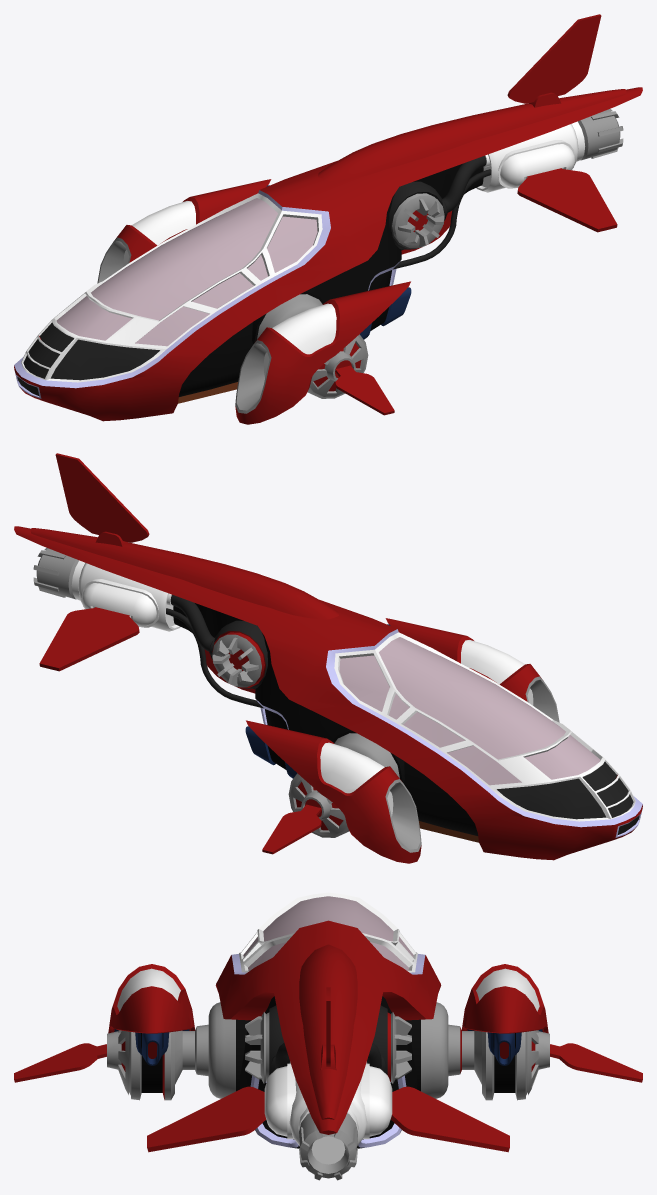
Rendered from NewShip.obj.
3 renders of one model, top to bottom at view 1: azimuth 30°, elevation 25°; view 2: azimuth 150°, elevation 25°; view 3: azimuth 270°, elevation 25°, orthographic. The views are drawn at different scales.
Visible parts, largest first — view 1: UpperChassis, WindShield, WingCovers, Tummy, WindowFrame, FrontPlates, Tank, WingPads, Lists, WingThings, WingOpenings, Flenses (+5 smaller); view 2: UpperChassis, WindShield, WingCovers, Tummy, WindowFrame, FrontPlates, Tank, WingPads, Lists, WingThings, WingOpenings, Flenses (+5 smaller); view 3: UpperChassis, WingThings, WingCovers, Tank, WindShield, Detail, Flenses, WindowFrame, Exhaust, WingPads, Tummy, WingStuff (+5 smaller).
Part boxes in pixels (x1=…): UpperChassis: x1=14, y1=14, x2=642, y2=421; WindShield: x1=56, y1=198, x2=317, y2=346; WingCovers: x1=115, y1=179, x2=410, y2=424; Tummy: x1=178, y1=164, x2=483, y2=396; WindowFrame: x1=21, y1=193, x2=322, y2=382; FrontPlates: x1=17, y1=322, x2=159, y2=395; Tank: x1=476, y1=121, x2=585, y2=192; WingPads: x1=132, y1=201, x2=336, y2=354; Lists: x1=14, y1=190, x2=400, y2=398; WingThings: x1=257, y1=294, x2=368, y2=398; WingOpenings: x1=97, y1=237, x2=271, y2=413; Flenses: x1=392, y1=193, x2=444, y2=248; UpperChassis: x1=14, y1=453, x2=642, y2=860; WindShield: x1=339, y1=637, x2=600, y2=785; WingCovers: x1=246, y1=618, x2=541, y2=863; Tummy: x1=173, y1=603, x2=478, y2=835; WindowFrame: x1=334, y1=632, x2=635, y2=821; FrontPlates: x1=497, y1=761, x2=639, y2=834; Tank: x1=71, y1=560, x2=180, y2=631; WingPads: x1=320, y1=640, x2=524, y2=793; Lists: x1=256, y1=629, x2=642, y2=837; WingThings: x1=288, y1=733, x2=399, y2=837; WingOpenings: x1=385, y1=676, x2=559, y2=852; Flenses: x1=212, y1=634, x2=261, y2=687; UpperChassis: x1=14, y1=920, x2=642, y2=1152; WingThings: x1=107, y1=1002, x2=549, y2=1100; WingCovers: x1=108, y1=964, x2=548, y2=1033; Tank: x1=264, y1=1061, x2=392, y2=1146; WindShield: x1=243, y1=896, x2=413, y2=970; Detail: x1=121, y1=984, x2=535, y2=1134; Flenses: x1=245, y1=1012, x2=411, y2=1083; WindowFrame: x1=239, y1=892, x2=417, y2=972; Exhaust: x1=299, y1=1113, x2=357, y2=1180; WingPads: x1=117, y1=968, x2=539, y2=1011; Tummy: x1=236, y1=996, x2=420, y2=1148; WingStuff: x1=114, y1=1029, x2=542, y2=1065.
Size of the model in its own units: 32.94 by 13.46 by 22.94.
